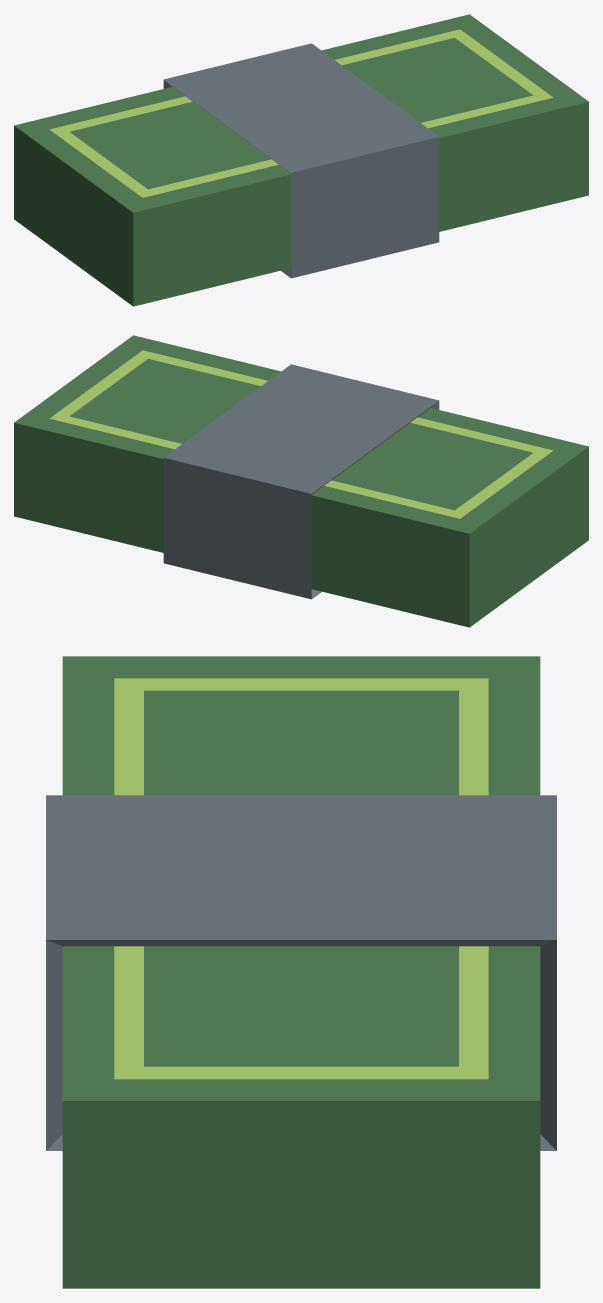
File: Theftable_CashMoney.fbx
The picture shows the model from 3 angles, top to bottom: view 1: azimuth 30°, elevation 25°; view 2: azimuth 150°, elevation 25°; view 3: azimuth 270°, elevation 25°; orthographic projection. The views are drawn at different scales.
Visible parts, largest first — view 1: Cube.216; view 2: Cube.216; view 3: Cube.216.
Part boxes in pixels (x1,y1,x2,y2): Cube.216: [14, 14, 588, 306]; Cube.216: [14, 335, 588, 627]; Cube.216: [46, 656, 556, 1288].
Size of the model in its own units: 22.15 by 4.9 by 10.75.
